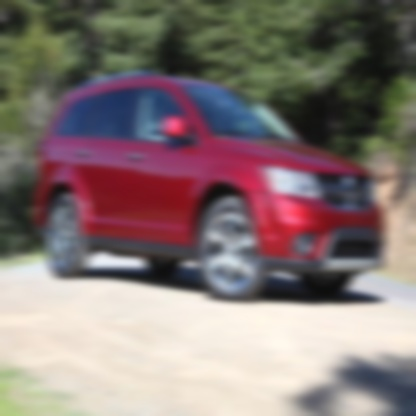Vehicle: (34, 79, 388, 304)
